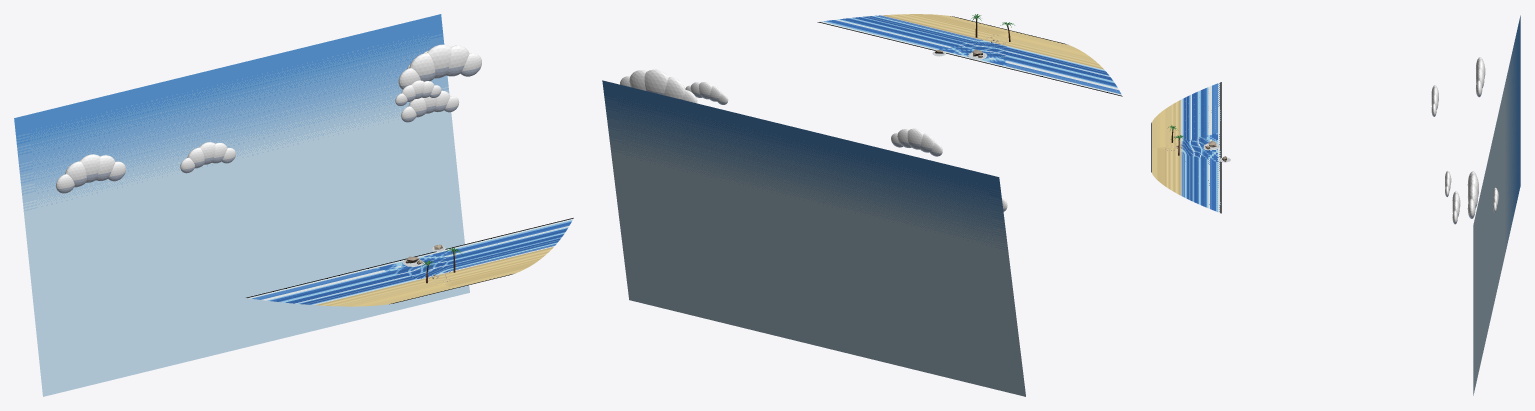
Rendered from bg_beach.glb.
The picture shows the model from 3 angles, left to right: view 1: azimuth 30°, elevation 25°; view 2: azimuth 150°, elevation 25°; view 3: azimuth 270°, elevation 25°; orthographic projection. The views are drawn at different scales.
Visible parts, largest first — view 1: sky, beach, clouds, sea_decor; view 2: sky, beach, clouds; view 3: sky, beach, clouds.
Part boxes in pixels (x1=…): sky: x1=14, y1=14, x2=469, y2=396; beach: x1=246, y1=218, x2=573, y2=306; clouds: x1=56, y1=44, x2=481, y2=193; sea_decor: x1=403, y1=244, x2=462, y2=283; sky: x1=602, y1=80, x2=1025, y2=396; beach: x1=817, y1=14, x2=1122, y2=96; clouds: x1=620, y1=69, x2=1007, y2=211; sky: x1=1473, y1=15, x2=1520, y2=395; beach: x1=1151, y1=82, x2=1221, y2=213; clouds: x1=1431, y1=57, x2=1498, y2=224.
Size of the model in its own units: 107 by 59.92 by 94.79.
Materials: 5 (2 with a texture image).
